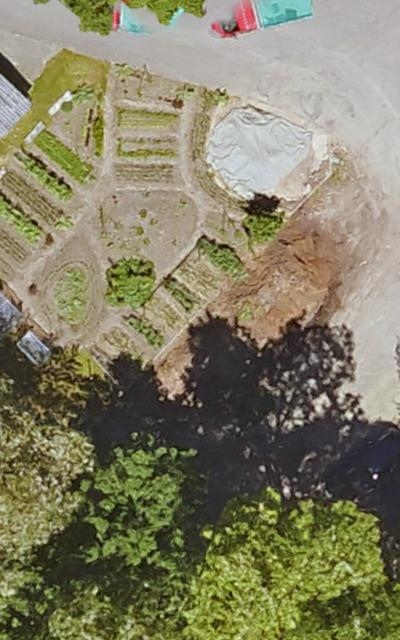tree: (158, 501, 397, 640), (83, 435, 203, 564), (1, 392, 90, 559), (50, 571, 178, 640), (0, 571, 41, 640), (245, 209, 284, 244)
